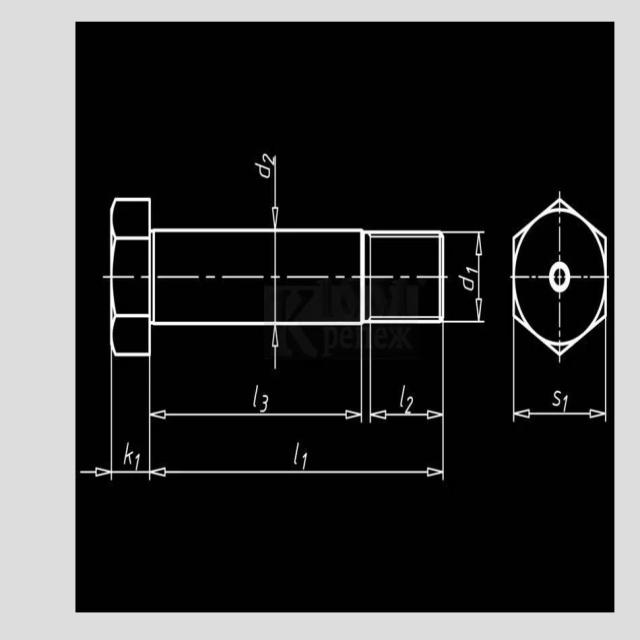marking_line: (81, 463, 445, 485), (152, 409, 357, 424), (514, 408, 607, 424), (267, 159, 287, 226), (371, 410, 445, 425), (474, 236, 484, 319), (267, 327, 283, 372)
